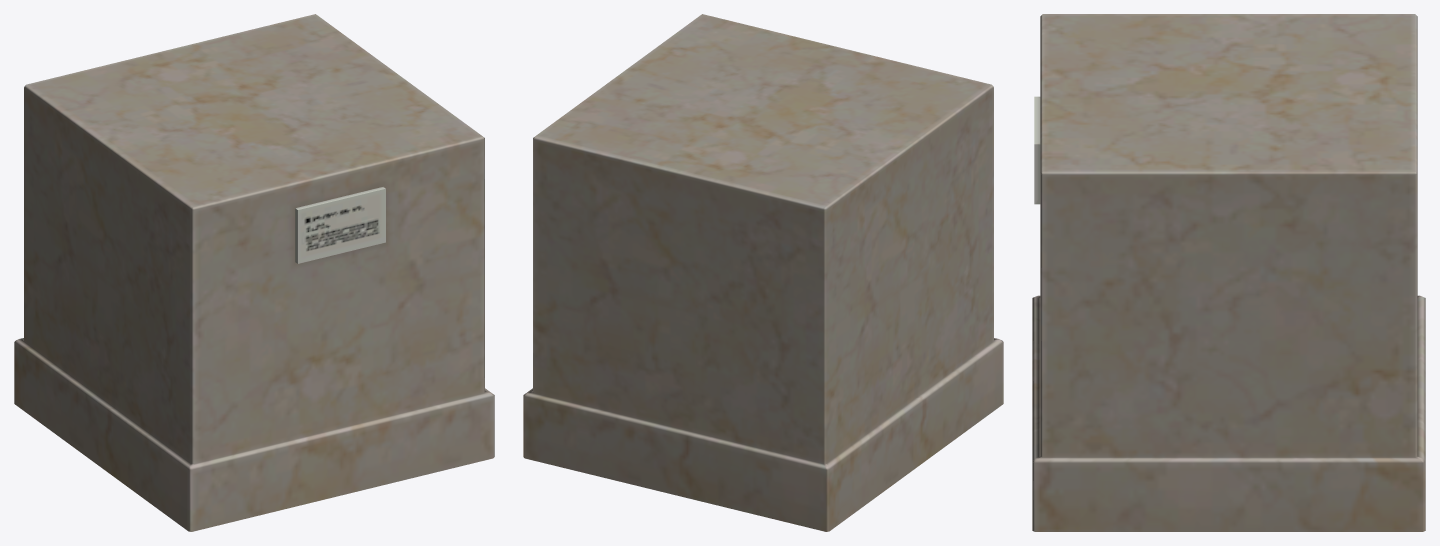
File: museum-stand.glb
3 views of the same model, side by side, from view 1: azimuth 30°, elevation 25°; view 2: azimuth 150°, elevation 25°; view 3: azimuth 270°, elevation 25° (orthographic). The views are drawn at different scales.
Visible parts, largest first — view 1: stand1x1__mReBody-mesh, plate__mReBody-mesh; view 2: stand1x1__mReBody-mesh; view 3: stand1x1__mReBody-mesh, plate__mReBody-mesh.
Part boxes in pixels (<box>): stand1x1__mReBody-mesh: <box>14,14,494,531</box>; plate__mReBody-mesh: <box>295,187,385,263</box>; stand1x1__mReBody-mesh: <box>523,14,1003,531</box>; stand1x1__mReBody-mesh: <box>1032,14,1425,531</box>; plate__mReBody-mesh: <box>1034,96,1040,204</box>.
Size of the model in its own units: 10 by 10 by 10.
Materials: 1 (1 with a texture image).
